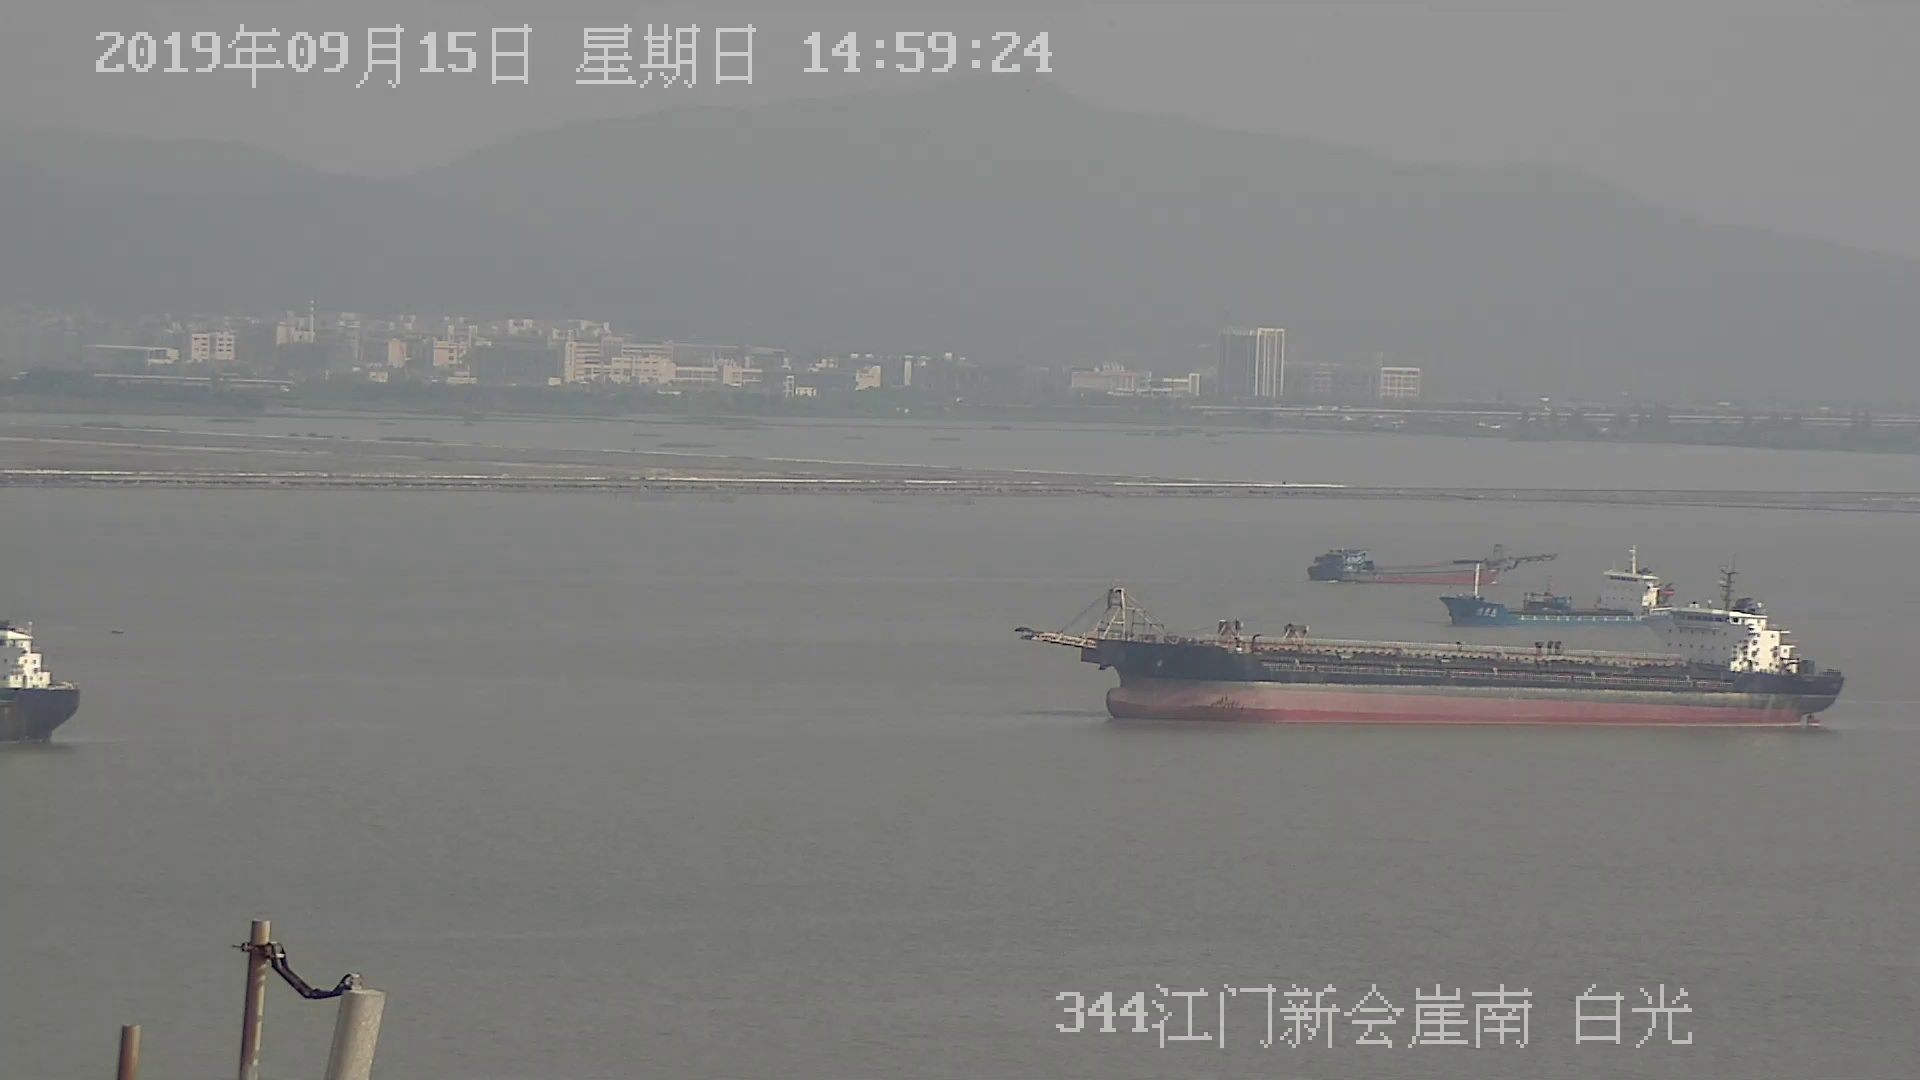ship: (1014, 601, 1844, 733), (1447, 568, 1688, 632), (1303, 535, 1553, 585)
